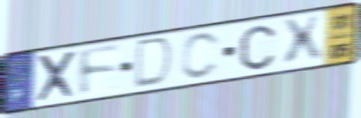C: (179, 30, 222, 81), (238, 23, 278, 72)
D: (131, 35, 176, 91)
F: (77, 43, 123, 100)
X: (280, 13, 325, 69), (35, 48, 79, 105)
